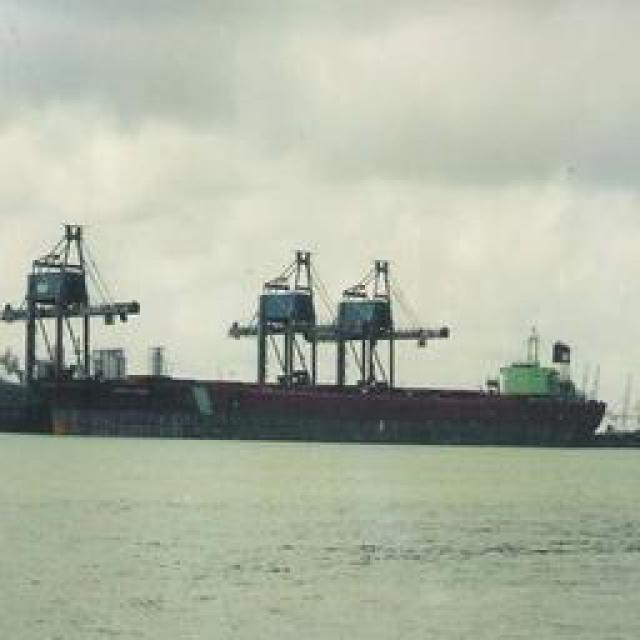Ship: (17, 355, 620, 445)
